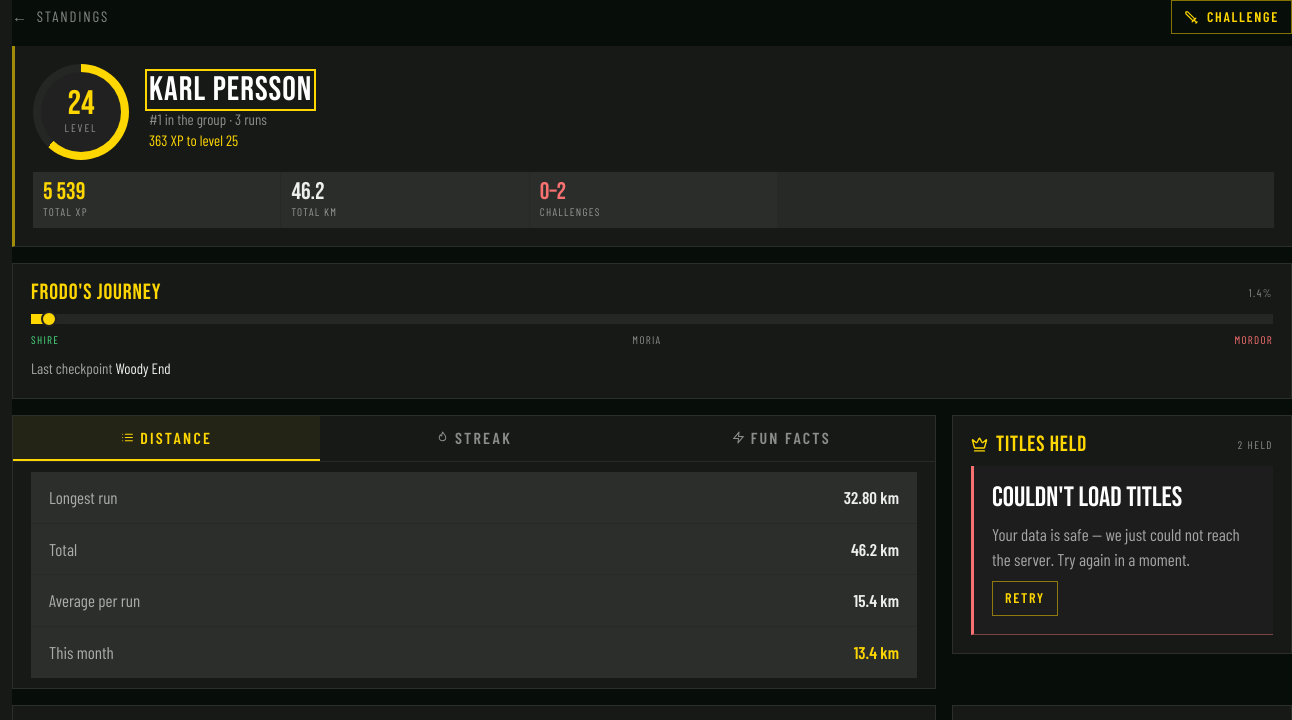
Test case: titelpanelen när titeltopplistan felar › när en omhämtning av topplistan felar efter ett lyckat svar: felkort med Retry i stället för gamla rader, och Retry ger raderna med enhet igen
Check: the text "2 held" is shown, box [1238,437,1273,453]
Check: the heading "Couldn't load titles" is shown, box [992,484,1182,512]
Click the button "Retry" at x=1025, y=598, box [992,581,1058,616]
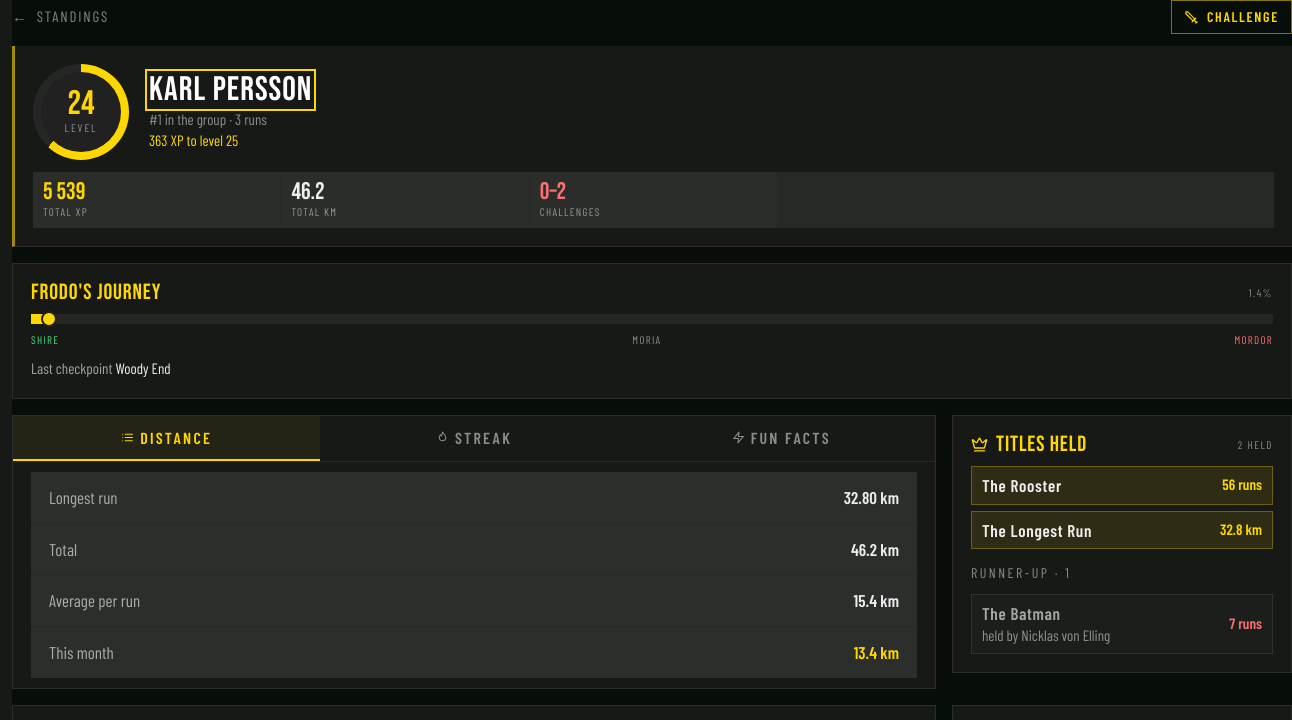
Check: the text "2 held" is shown, box [1238,437,1273,453]
Check: the list items read "The Rooster56 runs", "The Longest Run32.8 km", in this order, box [971,466,1273,504]; [971,511,1273,549]
Check: the message is gone
